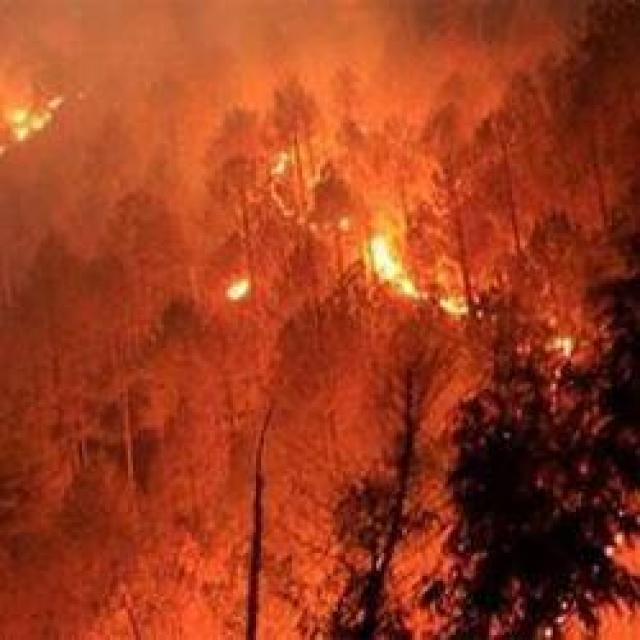fire: (361, 224, 425, 301), (10, 107, 38, 145)
smoke: (29, 11, 174, 76), (327, 0, 407, 78)
